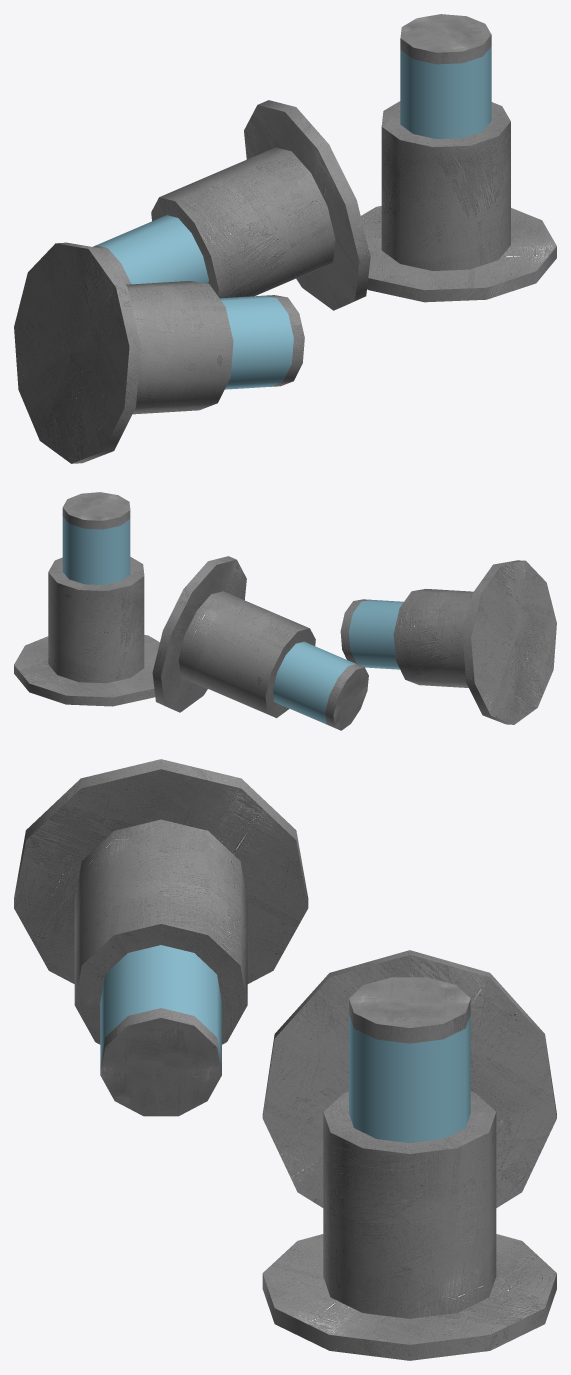
Rendered from qidong.FBX.
The picture shows the model from 3 angles, top to bottom: view 1: azimuth 30°, elevation 25°; view 2: azimuth 150°, elevation 25°; view 3: azimuth 270°, elevation 25°; orthographic projection. The views are drawn at different scales.
Visible parts, largest first — view 1: Cylinder001; view 2: Cylinder001; view 3: Cylinder001.
Boxes of the visible parts, <box> form: Cylinder001: <box>14,14,556,463</box>; Cylinder001: <box>14,492,556,730</box>; Cylinder001: <box>14,759,556,1360</box>.
Bounding box in the file's own units: 7.56 × 2.92 × 4.61.
